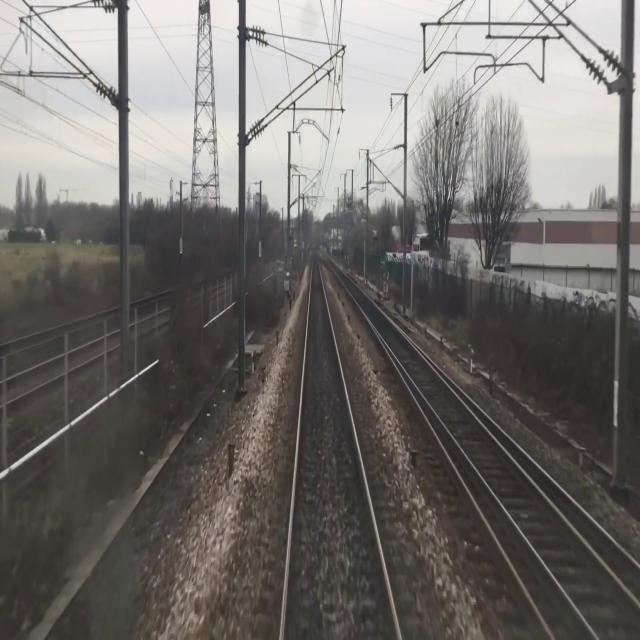rail-track: (327, 258, 640, 639), (387, 348, 593, 639), (433, 364, 640, 598), (283, 255, 397, 639)
